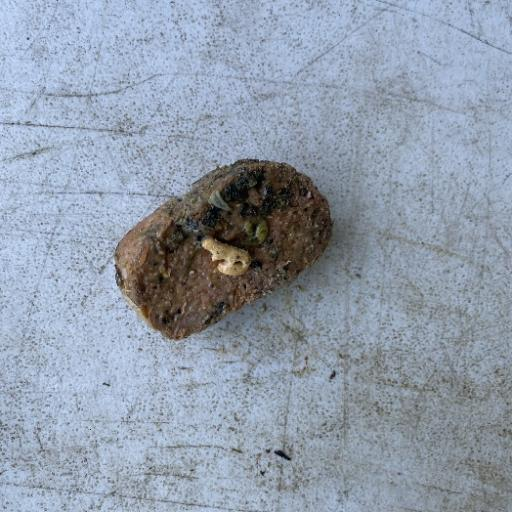Waste: (112, 156, 334, 341)
